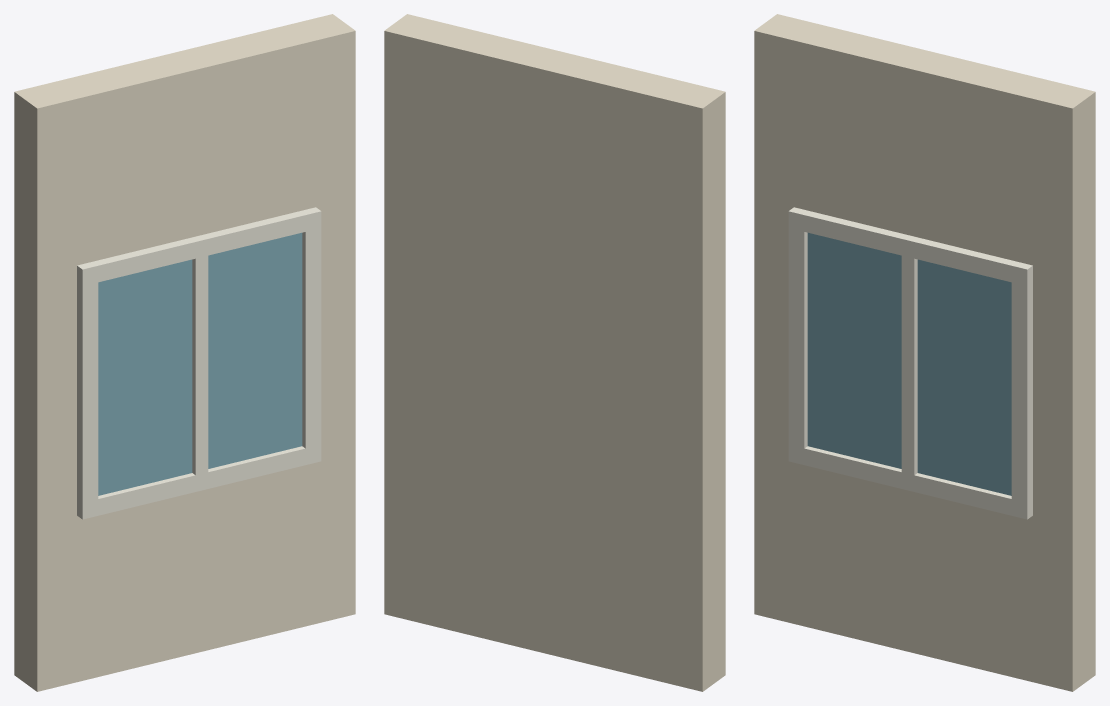
Rendered from kit_arcade_window.glb.
The picture shows the model from 3 angles, left to right: view 1: azimuth 30°, elevation 25°; view 2: azimuth 150°, elevation 25°; view 3: azimuth 330°, elevation 25°; orthographic projection.
Visible parts, largest first — view 1: kit_arcade_window-col; view 2: kit_arcade_window-col; view 3: kit_arcade_window-col.
Part boxes in pixels (x1,y1,x2,y2): kit_arcade_window-col: [14, 14, 355, 691]; kit_arcade_window-col: [384, 14, 725, 691]; kit_arcade_window-col: [754, 14, 1095, 691].
Size of the model in its own units: 2 by 3.5 by 0.31.
